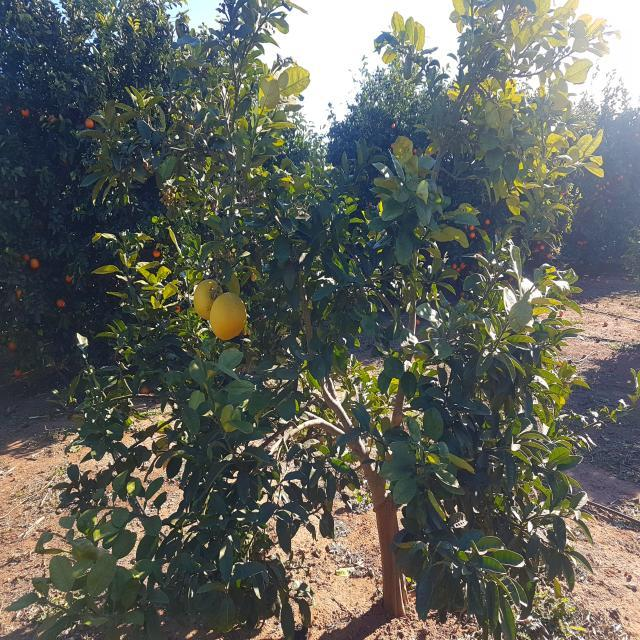Jeruk Sudah Matang: (30, 258, 40, 270), (56, 298, 66, 308), (14, 367, 23, 377), (460, 290, 469, 300), (22, 107, 31, 116), (86, 119, 94, 129), (15, 288, 23, 298), (8, 340, 16, 350), (154, 248, 162, 258), (140, 386, 148, 396), (24, 252, 31, 262), (148, 393, 156, 401), (250, 274, 258, 282), (174, 304, 180, 314), (49, 115, 56, 123), (66, 274, 72, 282), (6, 105, 12, 112), (87, 280, 93, 287), (242, 329, 248, 336), (534, 245, 540, 252), (415, 318, 420, 326), (470, 232, 476, 238), (484, 218, 490, 224), (452, 276, 458, 282), (546, 252, 552, 258), (461, 262, 466, 269), (391, 123, 396, 129), (413, 148, 418, 154), (452, 263, 457, 269), (456, 266, 461, 272), (559, 310, 564, 316), (63, 158, 67, 164), (68, 310, 72, 316), (540, 244, 544, 250), (504, 278, 508, 284), (564, 188, 568, 194), (470, 226, 474, 231), (478, 251, 482, 256), (483, 230, 488, 234), (537, 239, 541, 244), (586, 206, 590, 211), (560, 192, 564, 196), (596, 184, 600, 188), (583, 240, 587, 244), (620, 175, 624, 179), (606, 182, 610, 186), (391, 143, 394, 148), (584, 208, 587, 213), (369, 202, 372, 206), (580, 242, 583, 246), (600, 194, 603, 198), (629, 164, 632, 168), (617, 130, 620, 134), (636, 132, 638, 137), (595, 192, 598, 195), (578, 241, 580, 245), (608, 200, 612, 202), (600, 188, 603, 190)
